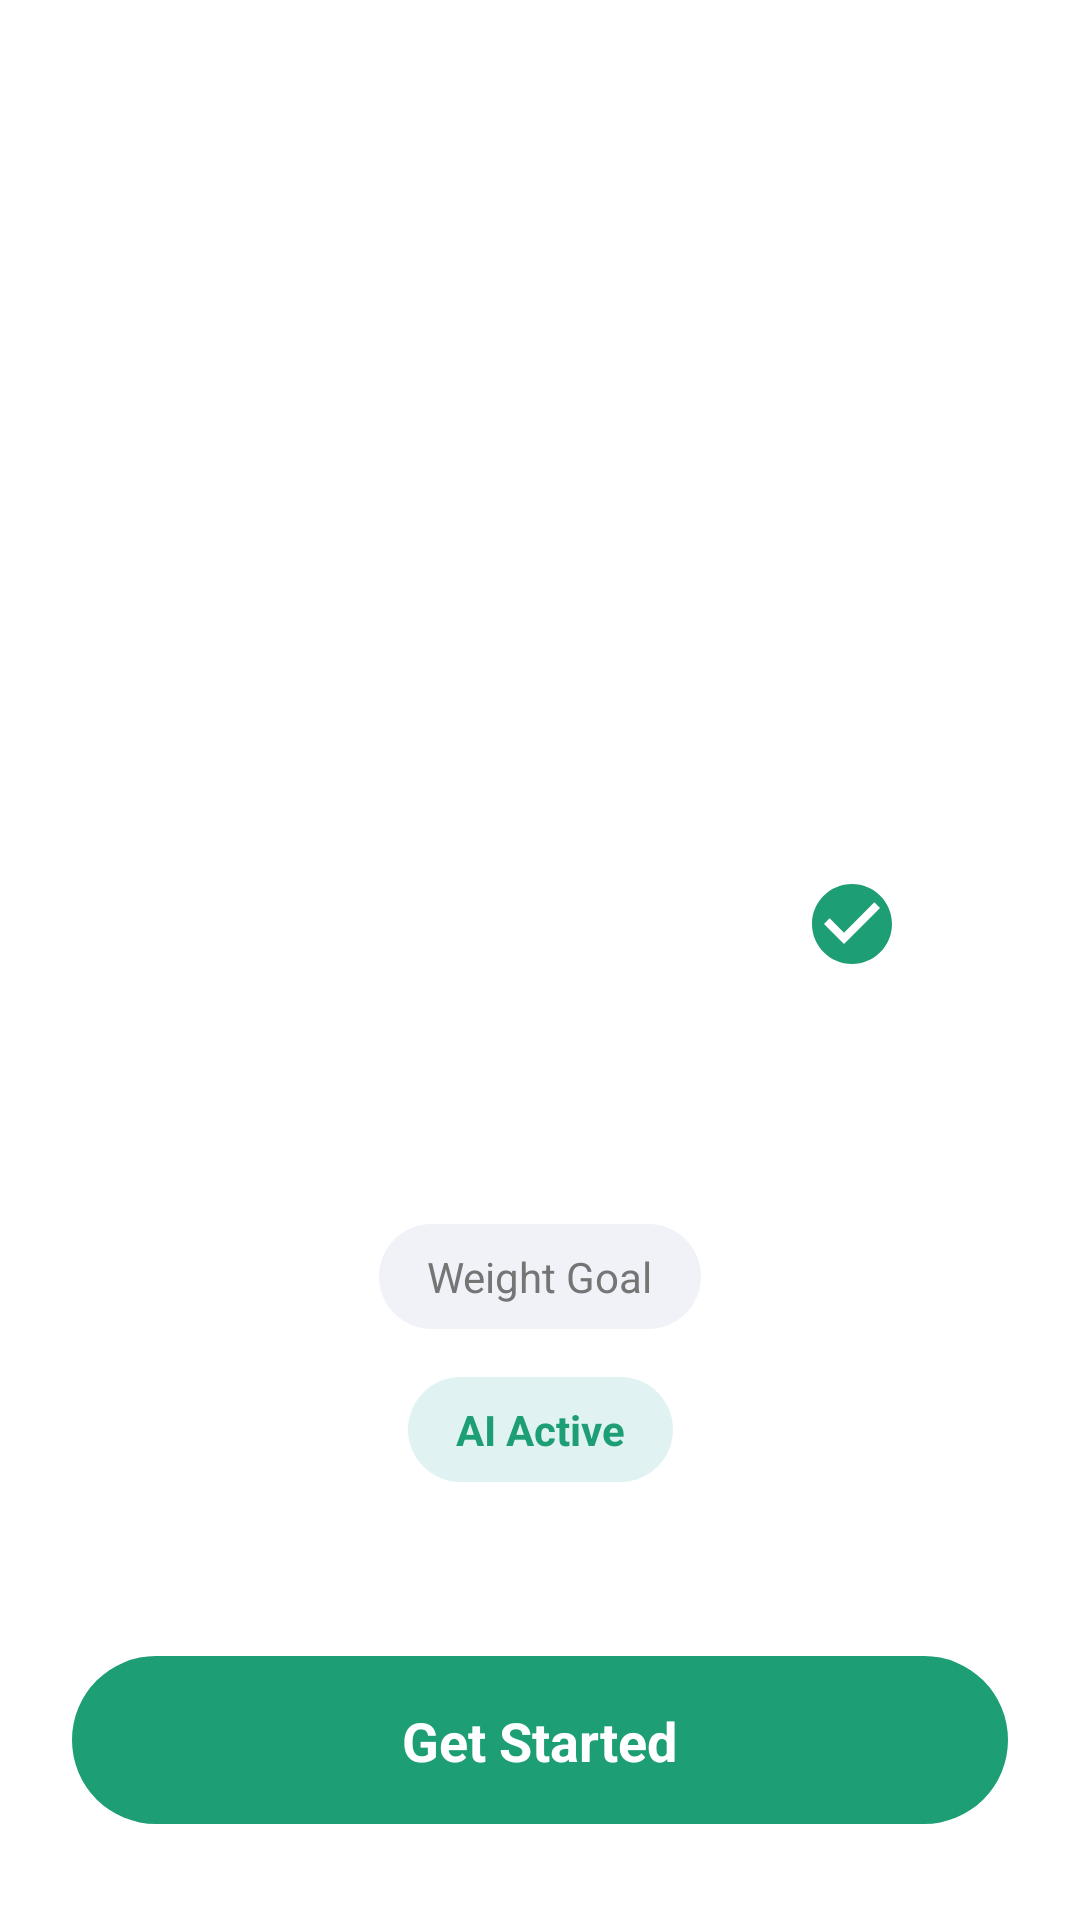

Icons on this 1080*1920 Android screen, each with the point to tap as (x,y):
check circle: (852,924)
